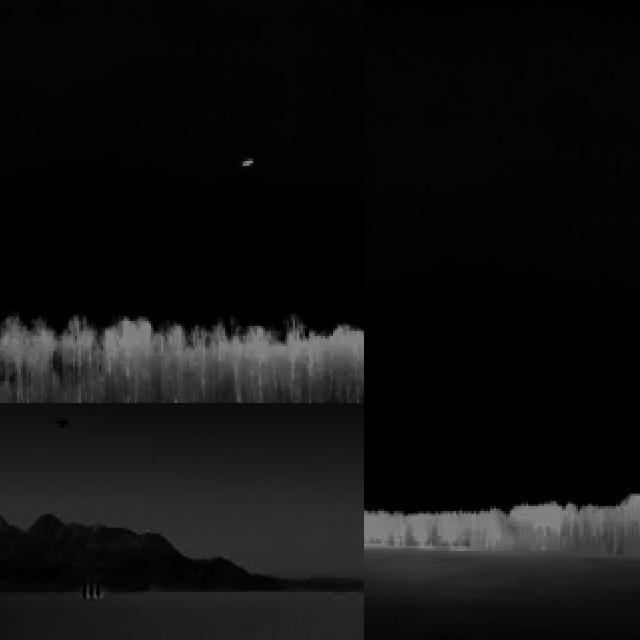1: (229, 155, 259, 175), (628, 273, 640, 293)
drone: (52, 411, 74, 436)
